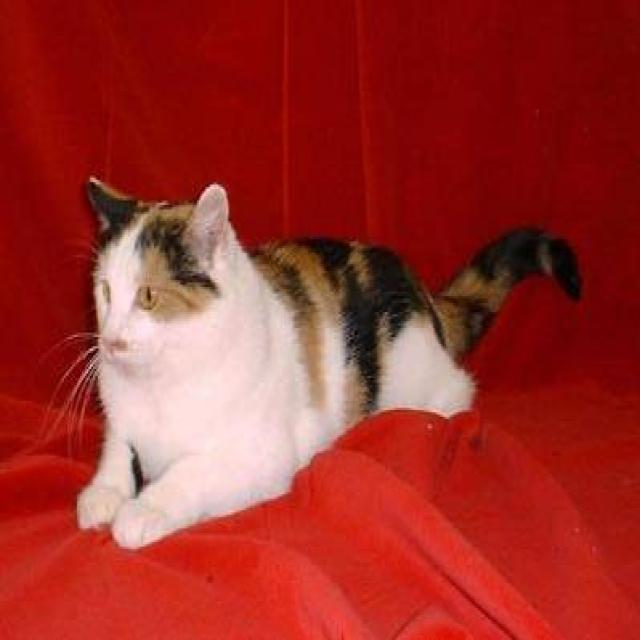cat: (37, 173, 582, 551)
